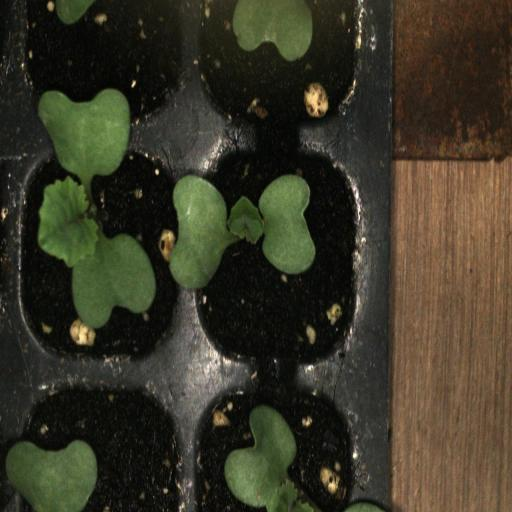Folha: (224, 405, 318, 512)
Germinacao: (187, 128, 374, 378), (11, 127, 188, 377)
